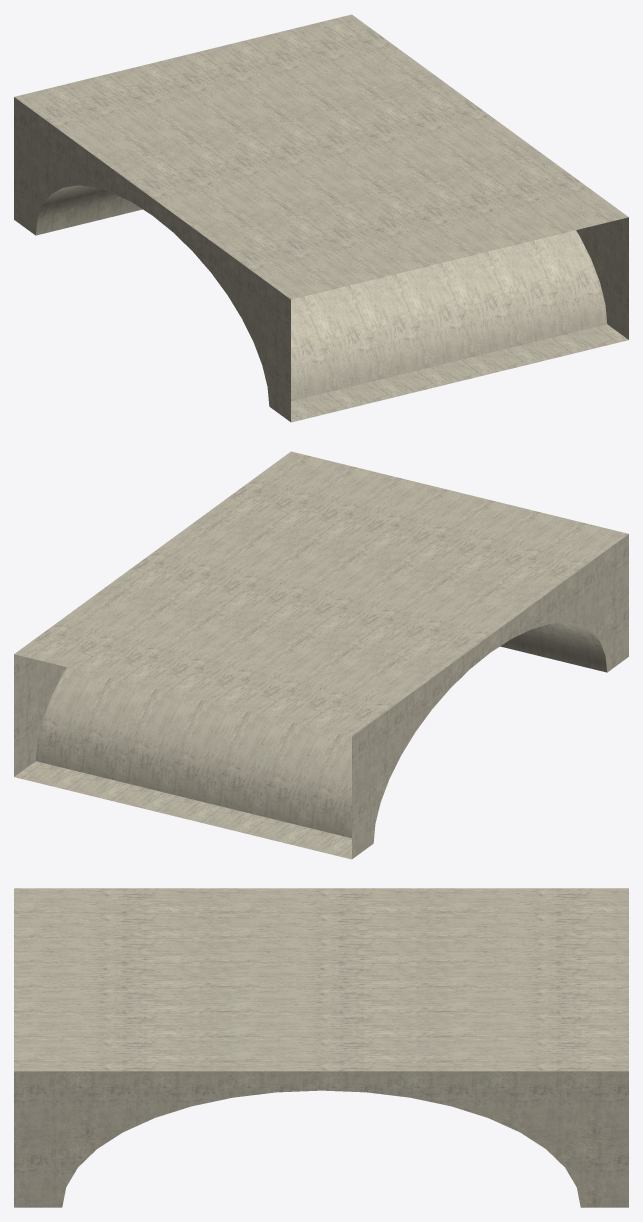
File: BridgeBase8-2L-40M.FBX
3 renders of one model, top to bottom at view 1: azimuth 30°, elevation 25°; view 2: azimuth 150°, elevation 25°; view 3: azimuth 270°, elevation 25°, orthographic. The views are drawn at different scales.
Visible parts, largest first — view 1: BridgeBase8-2L-40M; view 2: BridgeBase8-2L-40M; view 3: BridgeBase8-2L-40M.
Boxes of the visible parts, x1,y1,x2,y2 form: BridgeBase8-2L-40M: [14, 14, 628, 422]; BridgeBase8-2L-40M: [14, 451, 628, 859]; BridgeBase8-2L-40M: [14, 888, 628, 1207].
Size of the model in its own units: 18 by 6.25 by 25.57.
